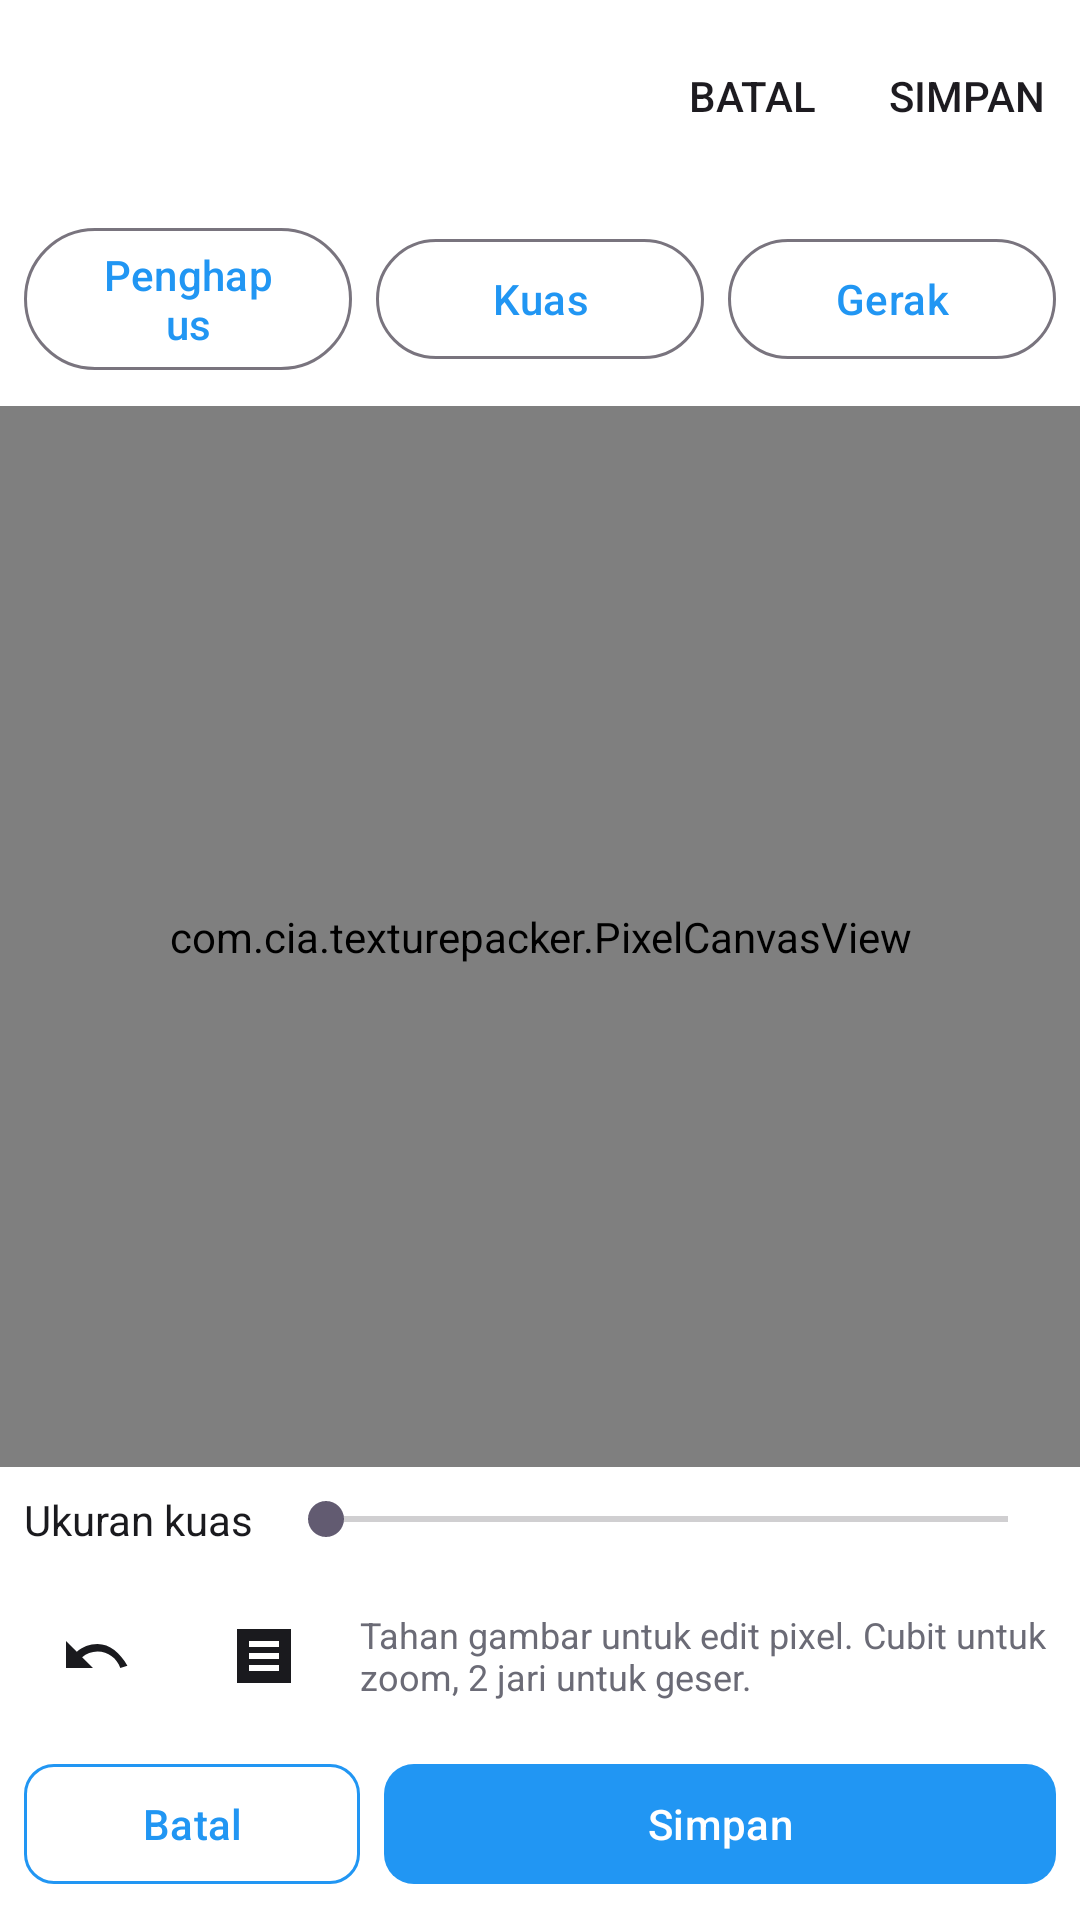

Icons on this 1080*1920 Android screen, each with its box as box=[x1, y1, x2, y2]:
Urungkan: box=[66, 1641, 128, 1668]
